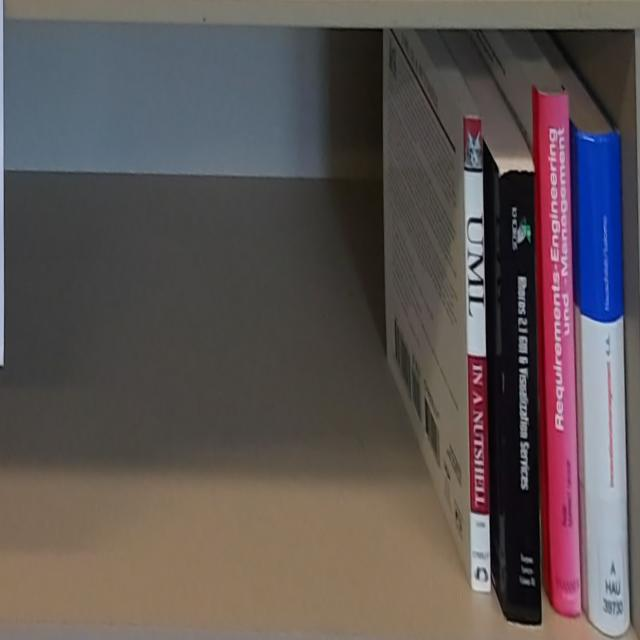Book Spine: (577, 137, 633, 640), (536, 84, 584, 623), (499, 173, 542, 631), (461, 116, 490, 601)
